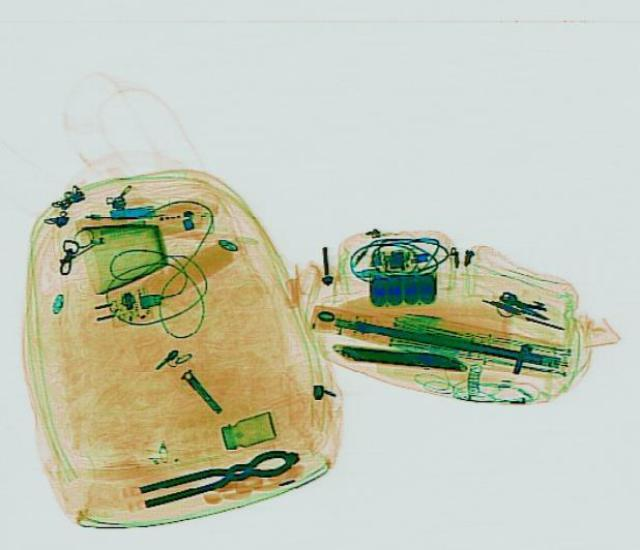Pliers: (136, 440, 304, 508)
